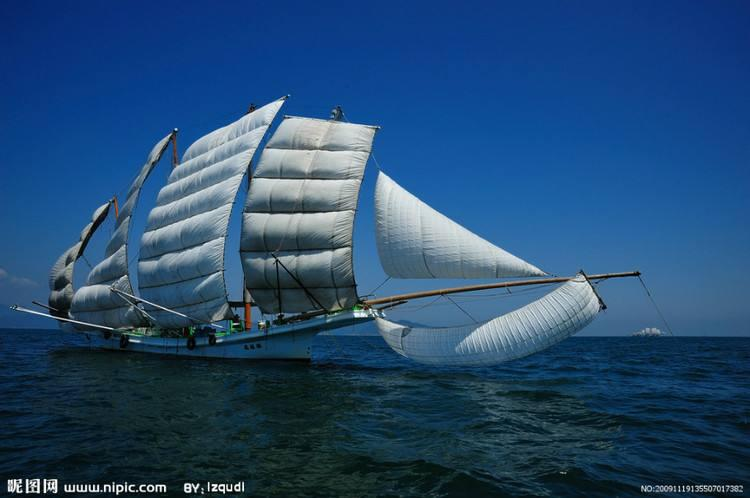fanchuan: (8, 92, 667, 370)
